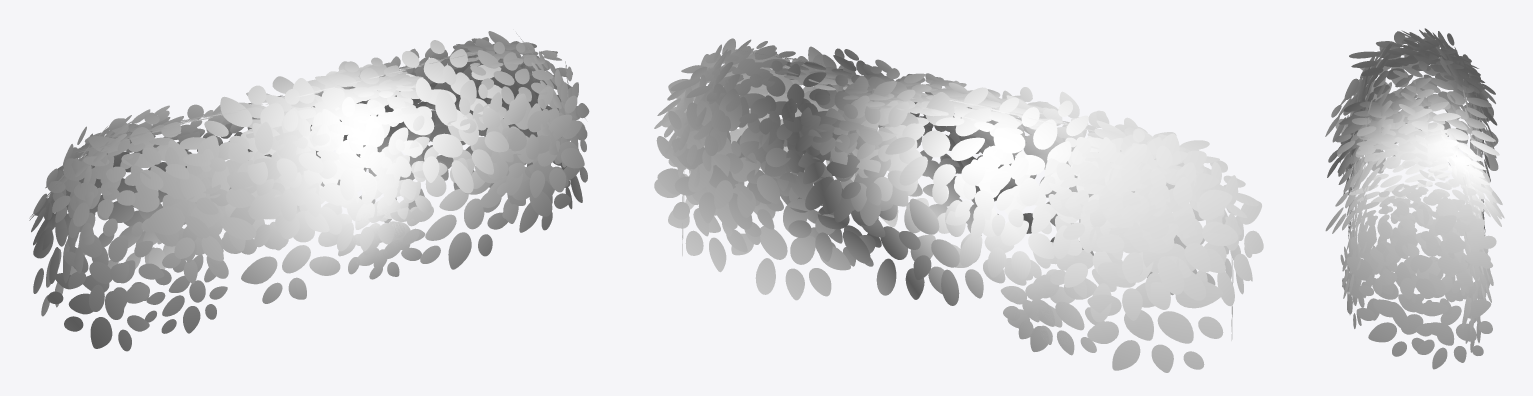
3 renders of one model, left to right at view 1: azimuth 30°, elevation 25°; view 2: azimuth 150°, elevation 25°; view 3: azimuth 270°, elevation 25°, orthographic. The views are drawn at different scales.
Visible parts, largest first — view 1: Bush_Small; view 2: Bush_Small; view 3: Bush_Small.
Boxes of the visible parts, x1=… form: Bush_Small: x1=29, y1=31, x2=589, y2=351; Bush_Small: x1=654, y1=38, x2=1263, y2=372; Bush_Small: x1=1325, y1=28, x2=1504, y2=369.
Size of the model in its own units: 1.9 by 0.7784 by 0.7238.
Materials: 1 (1 with a texture image).
